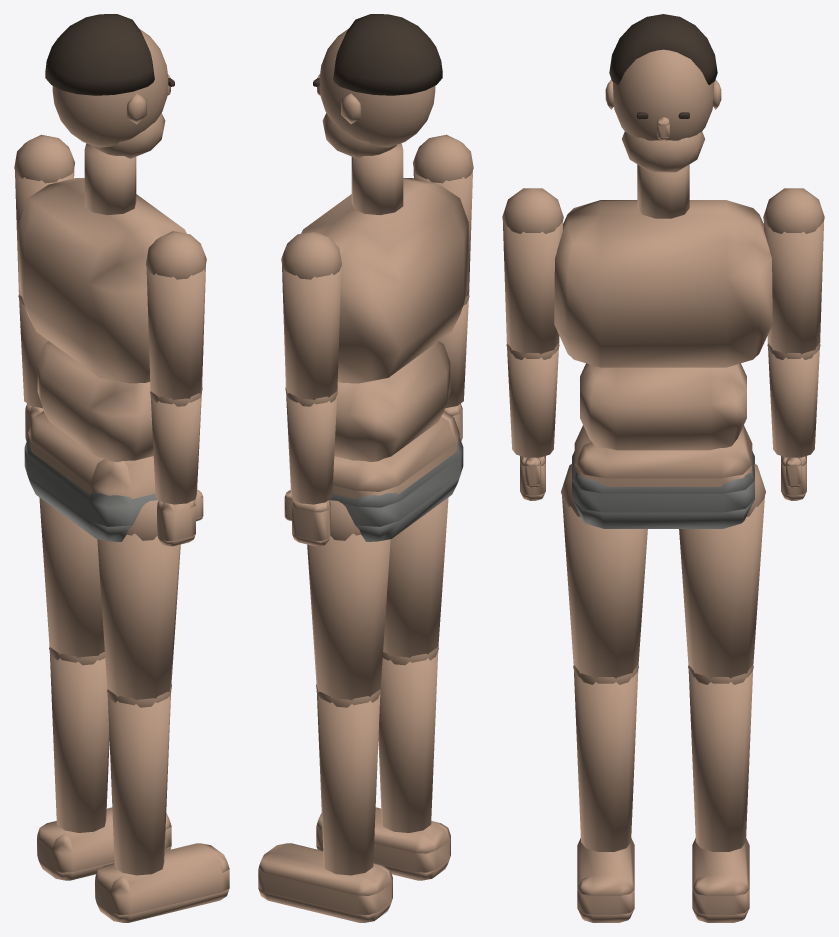
The model's file is char_naked.glb.
The picture shows the model from 3 angles, left to right: view 1: azimuth 30°, elevation 25°; view 2: azimuth 150°, elevation 25°; view 3: azimuth 270°, elevation 25°; orthographic projection.
Parts seen in each view (by area): view 1: box.002, cyl.007, cyl.008, cyl.006, box.001, cyl.005, blob.004, box.011, cyl.003, blob, box, box.012 (+12 smaller); view 2: box.002, cyl.005, cyl.006, cyl.008, box.001, cyl.007, blob.004, box.010, cyl.001, blob, box, box.012 (+12 smaller); view 3: box.002, box.001, cyl.005, cyl.007, cyl.006, cyl.008, box.012, blob, box, cyl.001, cyl.003, cyl.002 (+10 smaller).
Boxes of the visible parts, x1=… form: box.002: x1=19, y1=178, x2=186, y2=383; cyl.007: x1=97, y1=533, x2=180, y2=700; cyl.008: x1=107, y1=691, x2=171, y2=875; cyl.006: x1=49, y1=651, x2=109, y2=832; box.001: x1=37, y1=341, x2=153, y2=461; cyl.005: x1=39, y1=497, x2=104, y2=657; blob.004: x1=45, y1=14, x2=154, y2=95; box.011: x1=95, y1=843, x2=229, y2=922; cyl.003: x1=146, y1=265, x2=205, y2=400; blob: x1=52, y1=28, x2=168, y2=147; box: x1=28, y1=411, x2=155, y2=498; box.012: x1=24, y1=437, x2=158, y2=541; box.002: x1=301, y1=178, x2=468, y2=383; cyl.005: x1=307, y1=533, x2=390, y2=700; cyl.006: x1=316, y1=691, x2=380, y2=875; cyl.008: x1=378, y1=651, x2=438, y2=832; box.001: x1=334, y1=341, x2=450, y2=461; cyl.007: x1=383, y1=497, x2=448, y2=657; blob.004: x1=333, y1=14, x2=442, y2=95; box.010: x1=258, y1=843, x2=392, y2=922; cyl.001: x1=282, y1=265, x2=341, y2=400; blob: x1=319, y1=28, x2=435, y2=147; box: x1=332, y1=411, x2=459, y2=498; box.012: x1=329, y1=437, x2=463, y2=541; box.002: x1=554, y1=200, x2=772, y2=367; box.001: x1=580, y1=363, x2=746, y2=450; cyl.005: x1=679, y1=496, x2=764, y2=678; cyl.007: x1=562, y1=496, x2=647, y2=678; cyl.006: x1=688, y1=670, x2=752, y2=851; cyl.008: x1=574, y1=670, x2=638, y2=851; box.012: x1=572, y1=451, x2=754, y2=528; blob: x1=613, y1=49, x2=713, y2=140; box: x1=574, y1=425, x2=752, y2=486; cyl.001: x1=763, y1=220, x2=824, y2=354; cyl.003: x1=502, y1=220, x2=563, y2=354; cyl.002: x1=768, y1=348, x2=819, y2=457.
Bounding box in the file's own units: 0.31 × 1.83 × 0.6183.
